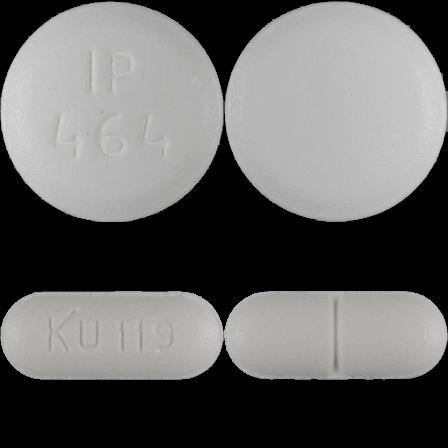43063-308: (0, 0, 224, 224)
